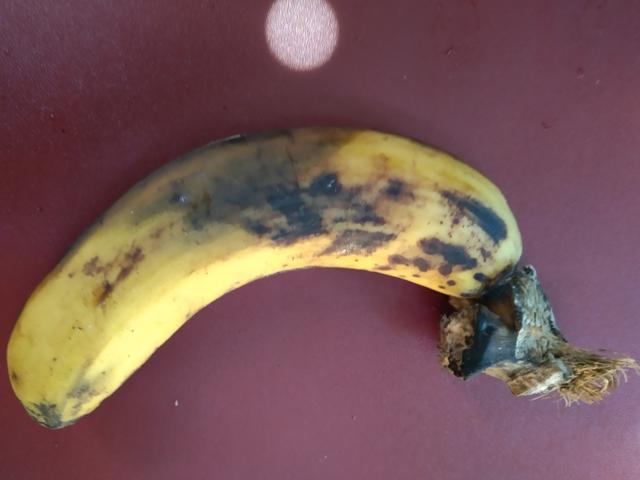overripe: (10, 103, 563, 469)
